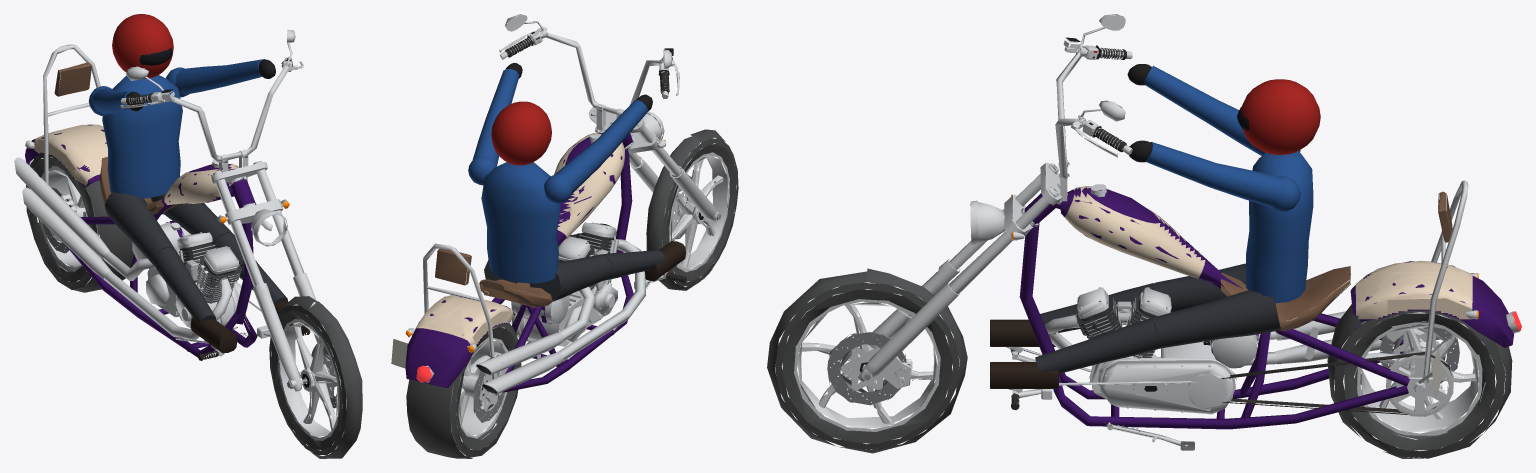
File: vb_chopper.glb
3 renders of one model, left to right at view 1: azimuth 30°, elevation 25°; view 2: azimuth 150°, elevation 25°; view 3: azimuth 270°, elevation 25°, orthographic. The views are drawn at different scales.
Parts seen in each view (by area): view 1: body, rider_torso, wheel_front, fork, rider_legs, wheel_rear, rider_head; view 2: body, rider_torso, wheel_front, wheel_rear, fork, rider_legs, rider_head; view 3: body, wheel_front, wheel_rear, rider_torso, rider_legs, fork, rider_head.
Boxes of the visible parts, x1,y1,x2,y2 form: body: (14, 44, 310, 360); rider_torso: (88, 59, 275, 198); wheel_front: (269, 296, 362, 458); fork: (120, 29, 334, 391); rider_legs: (104, 192, 308, 353); wheel_rear: (26, 154, 134, 292); rider_head: (112, 14, 173, 78); body: (391, 132, 686, 402); rider_torso: (468, 63, 652, 283); wheel_front: (646, 129, 738, 290); wheel_rear: (406, 323, 521, 458); fork: (499, 14, 720, 230); rider_legs: (484, 223, 685, 301); rider_head: (491, 101, 551, 165); body: (1006, 180, 1521, 450); wheel_front: (767, 268, 967, 453); wheel_rear: (1327, 304, 1512, 458); rider_torso: (1127, 64, 1313, 303); rider_legs: (990, 263, 1280, 388); fork: (858, 14, 1132, 388); rider_head: (1237, 79, 1320, 154).
Bounding box in the file's own units: 0.9069 × 1.57 × 2.73.
